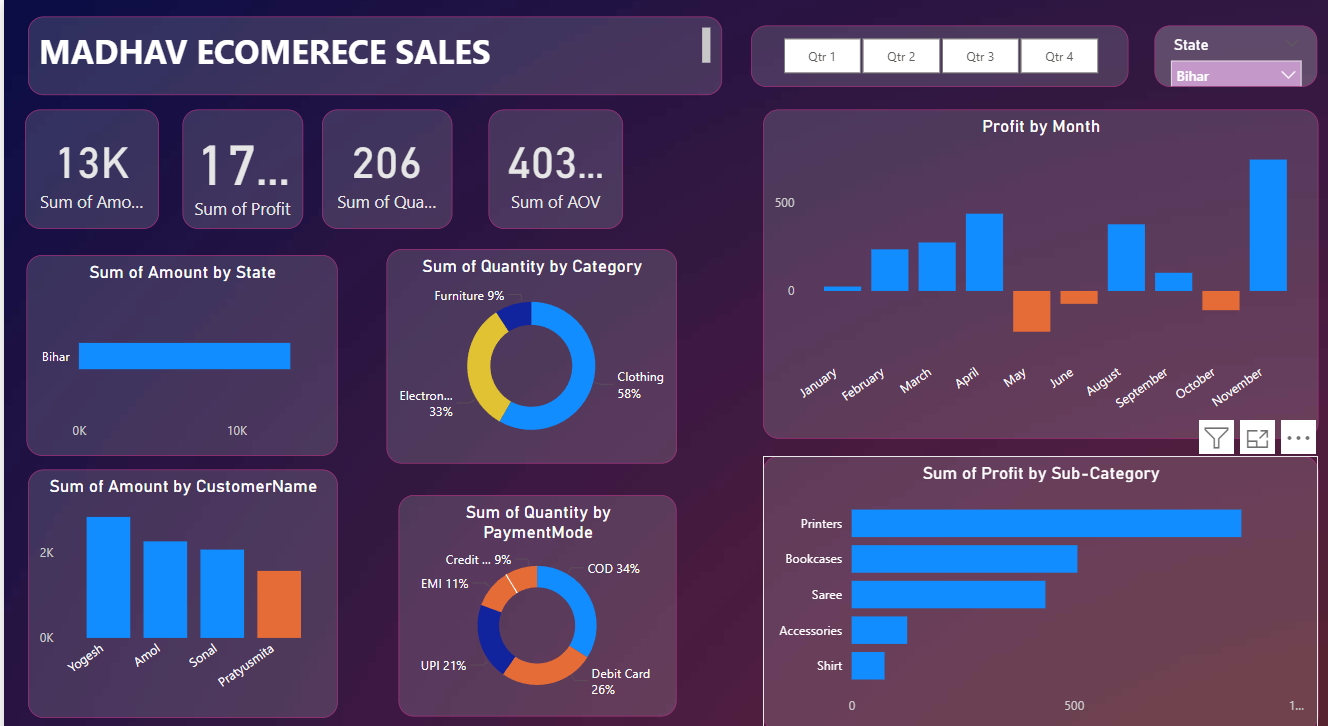

This screenshot's page, from the dashboard's own definition file:
{"tool":"powerbi","page":{"name":"Page 1","canvas":[1280,720],"ordinal":0},"visuals":[{"type":"textbox","box":[22.7,16.7,670.8,75.7],"z":0},{"type":"columnChart","title":" Profit by Month","fields":{"Y":["Details.Profit"],"Category":["Orders.Order Date.Variation.Date Hierarchy.Month"]},"box":[733.4,106.4,536.4,317.8],"z":1000},{"type":"barChart","fields":{"Category":["Details.Sub-Category"],"Y":["Details.Profit"]},"box":[733.4,440.1,536.4,266.1],"z":2000},{"type":"donutChart","fields":{"Category":["Details.Category"],"Y":["Details.Quantity"]},"box":[369.6,240.2,280.4,207.1],"z":3000},{"type":"donutChart","fields":{"Y":["Details.Quantity"],"Category":["Details.PaymentMode"]},"box":[381.1,478.9,268.9,214.3],"z":4000},{"type":"card","fields":{"Values":["Details.Amount"]},"box":[20.1,106.4,129.4,115],"z":5000},{"type":"card","fields":{"Values":["Details.Profit"]},"box":[172.6,106.4,116.5,115],"z":6000},{"type":"card","fields":{"Values":["Details.Quantity"]},"box":[307.4,106,125.7,115.1],"z":7000},{"type":"card","fields":{"Values":["Details.AOV"]},"box":[467.9,106,130.2,115.1],"z":8000},{"type":"barChart","fields":{"Category":["Orders.State"],"Y":["Details.Amount"]},"box":[21.6,245.9,300.6,194.1],"z":9000},{"type":"columnChart","fields":{"Category":["Orders.CustomerName"],"Y":["Details.Amount"]},"box":[23,453,299.1,240.2],"z":10000},{"type":"slicer","fields":{"Values":["Orders.Order Date.Variation.Date Hierarchy.Quarter"]},"box":[722.3,24.2,364.9,59.1],"z":11000},{"type":"slicer","fields":{"Values":["Orders.State"]},"box":[1111.4,24.2,157.5,59.1],"z":12000}]}

Visuals, with their boxes in screenshot pixels (x1, y1, x2, y2), scaled from the page's 1280x720 canvas onto the 1328x726 screenshot:
textbox: region(24, 17, 720, 93)
" Profit by Month" columnChart: region(761, 107, 1317, 428)
barChart - Details.Sub-Category x Details.Profit: region(761, 444, 1317, 712)
donutChart - Details.Category x Details.Quantity: region(383, 242, 674, 451)
donutChart - Details.Quantity x Details.PaymentMode: region(395, 483, 674, 699)
card - Details.Amount: region(21, 107, 155, 223)
card - Details.Profit: region(179, 107, 300, 223)
card - Details.Quantity: region(319, 107, 449, 223)
card - Details.AOV: region(485, 107, 621, 223)
barChart - Orders.State x Details.Amount: region(22, 248, 334, 444)
columnChart - Orders.CustomerName x Details.Amount: region(24, 457, 334, 699)
slicer - Orders.Order Date.Variation.Date Hierarchy.Quarter: region(749, 24, 1128, 84)
slicer - Orders.State: region(1153, 24, 1316, 84)
